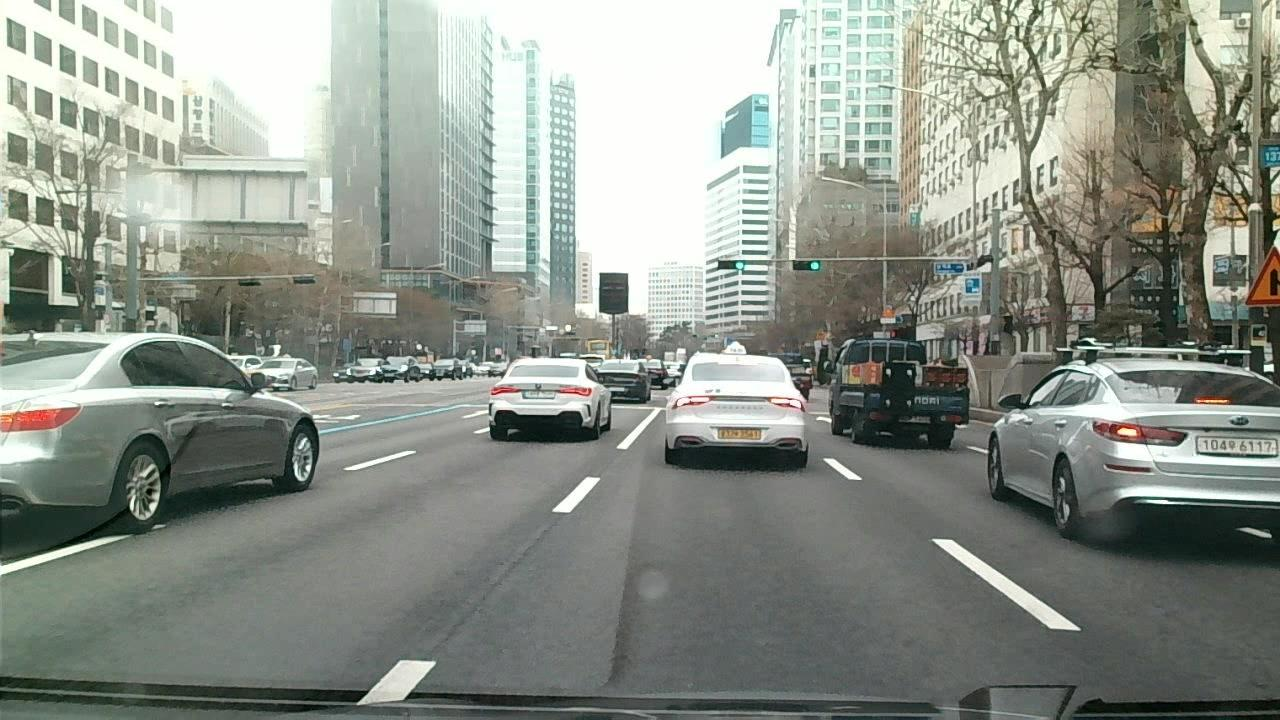banner: (594, 553, 636, 693)
